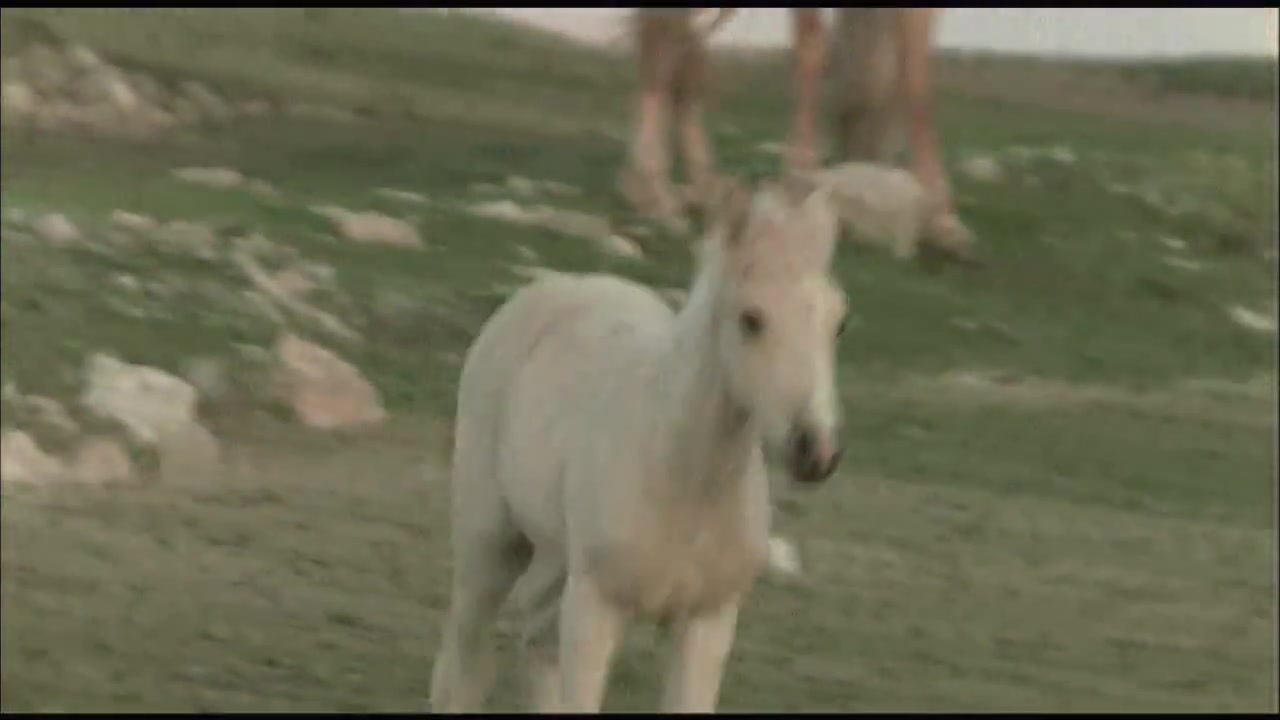horse: (428, 179, 856, 720)
